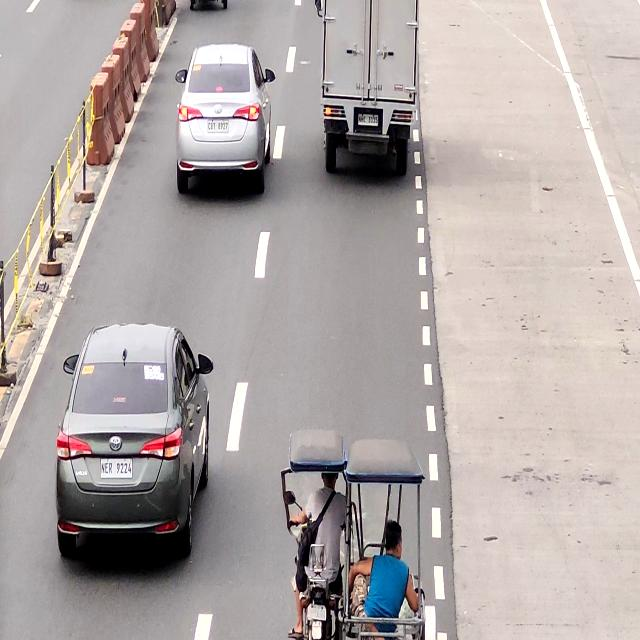Car: (56, 325, 209, 560), (175, 42, 274, 192)
License-Plate: (98, 454, 133, 482), (206, 118, 230, 136), (308, 603, 328, 621), (357, 112, 379, 128)
Tricycle: (283, 431, 428, 640)
Truck: (323, 0, 412, 172)
